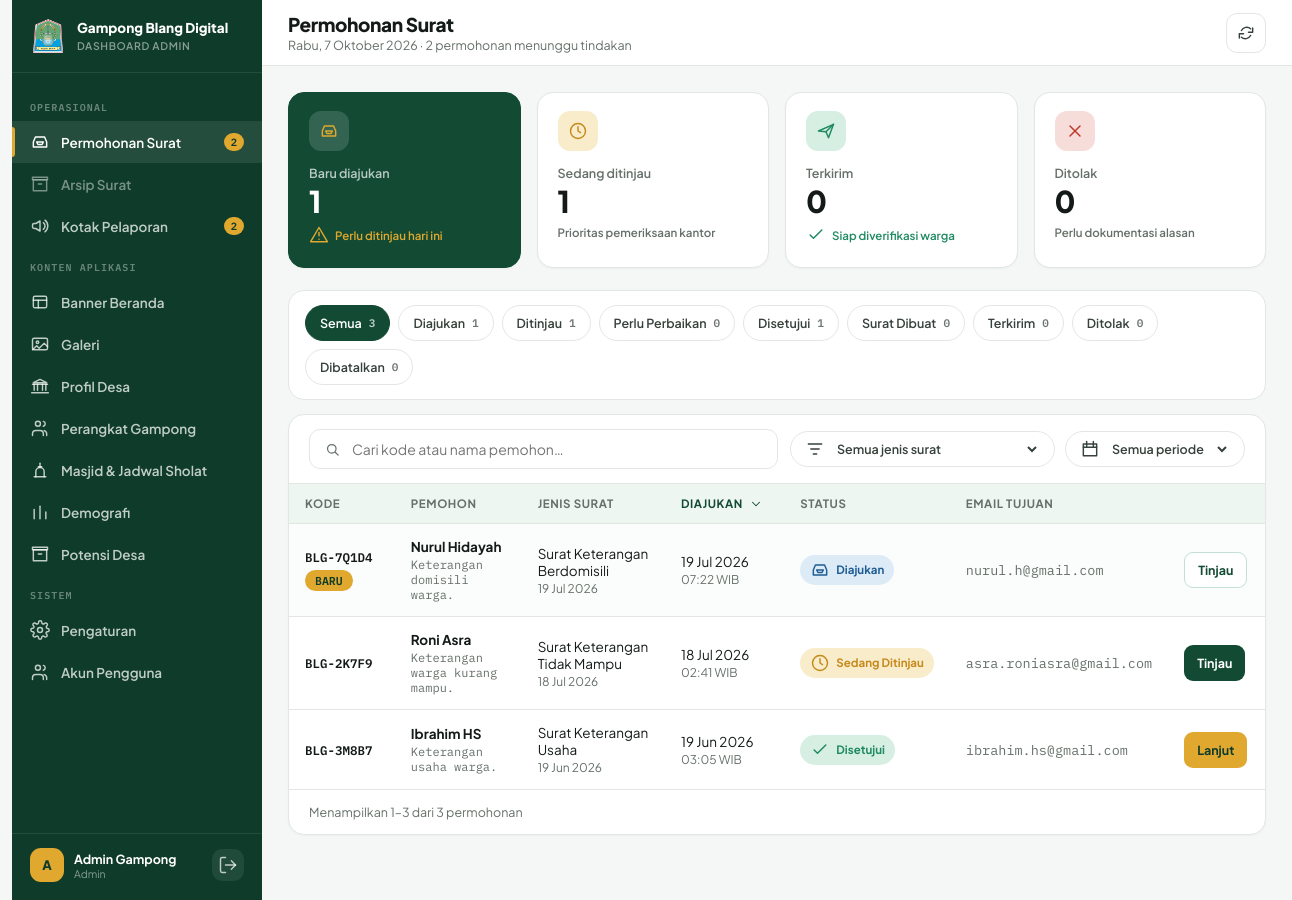
letter request queue › searches by reference code
Expected: the text "Roni Asra" is shown, [411,631,471,648]
Type "BLG-7Q1D4" into the search field named "cari permohonan" at (556, 449), box [350,439,763,459]
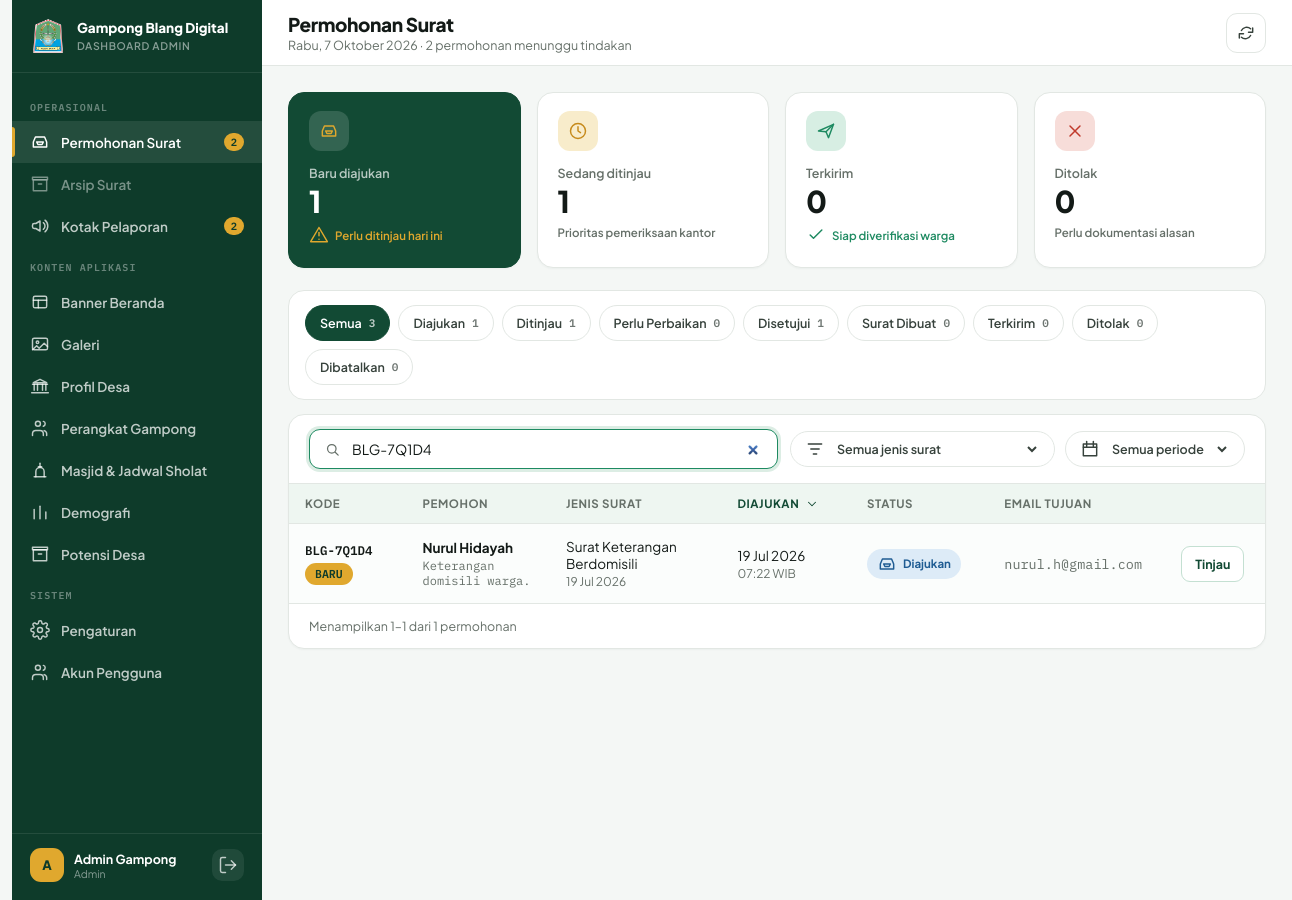
Expected: the text "Nurul Hidayah" is shown, [422,539,513,556]
Expected: the text "Roni Asra" is gone
